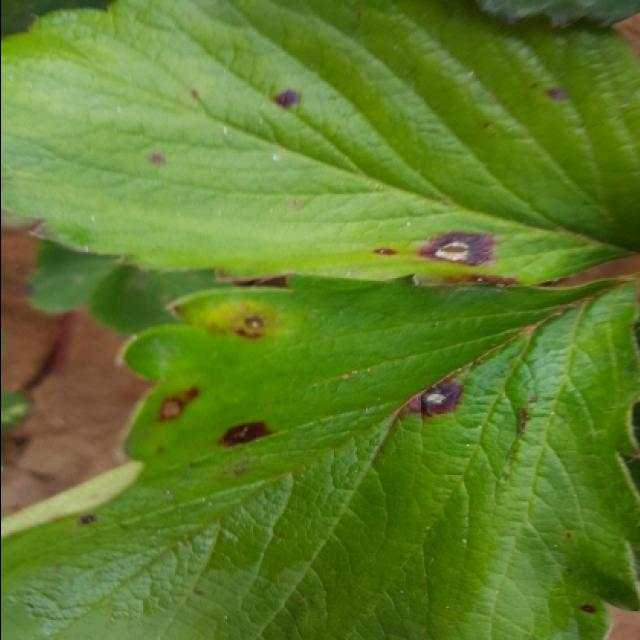Leaf Spot: (2, 270, 640, 638), (2, 0, 640, 288)
